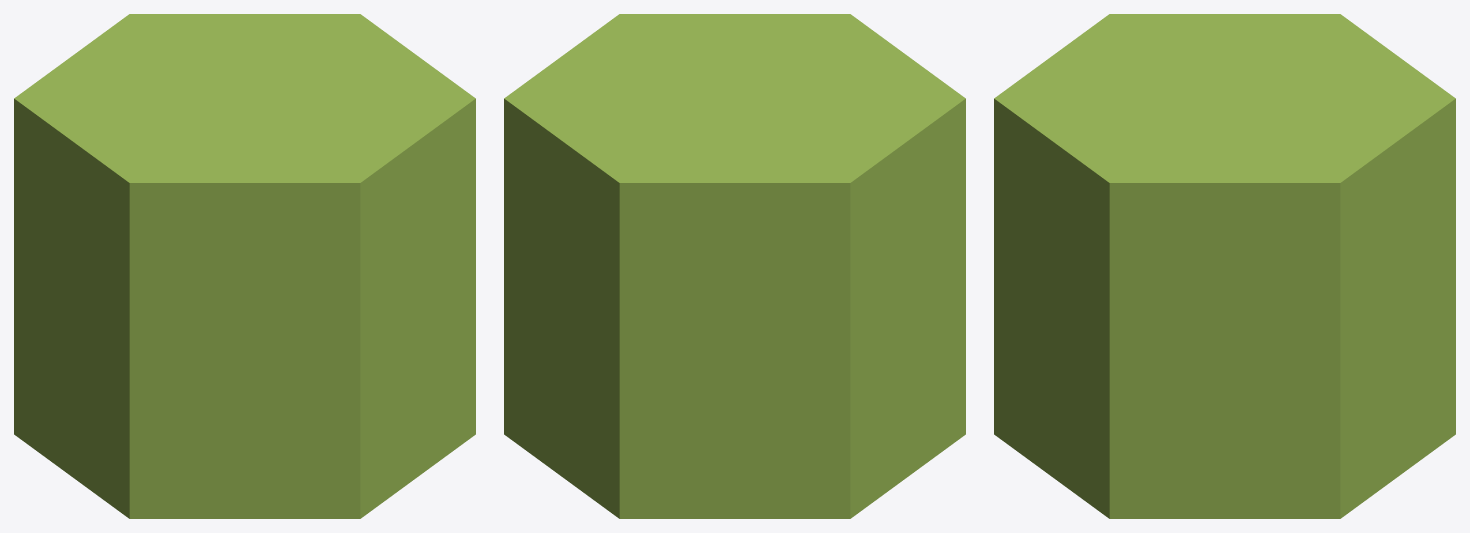
The model's file is zavala_protoTileset00.fbx.
The picture shows the model from 3 angles, left to right: view 1: azimuth 30°, elevation 25°; view 2: azimuth 150°, elevation 25°; view 3: azimuth 270°, elevation 25°; orthographic projection.
Visible parts, largest first — view 1: grass_hex; view 2: grass_hex; view 3: grass_hex.
Part boxes in pixels (x1,y1,x2,y2): grass_hex: (14, 14, 475, 518); grass_hex: (504, 14, 965, 518); grass_hex: (994, 14, 1455, 518).
Bounding box in the file's own units: 101 × 93.23 × 116.
